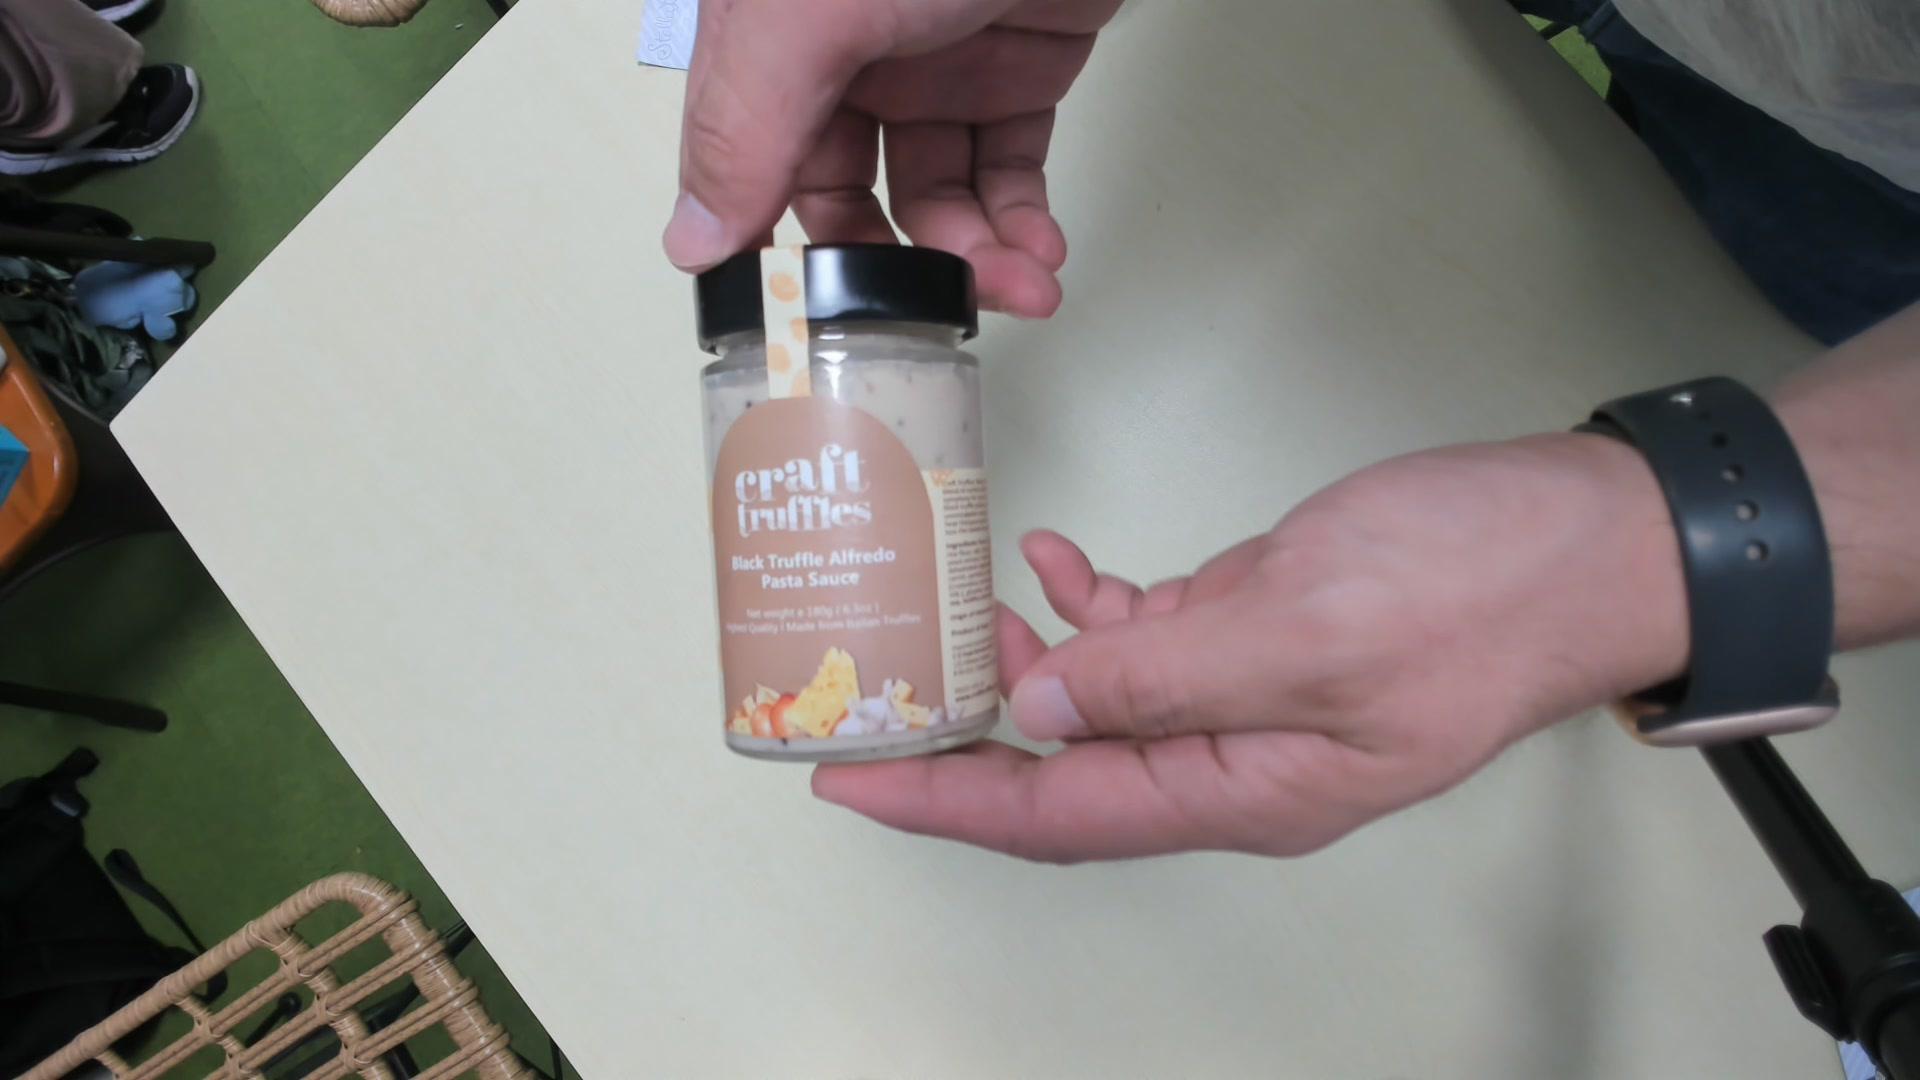PastaSauce_100-199g_Halal_NonHealthy: (698, 243, 1000, 765)
